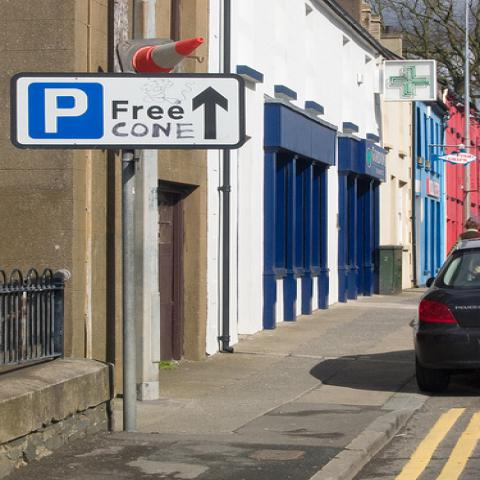car: (411, 238, 479, 394)
